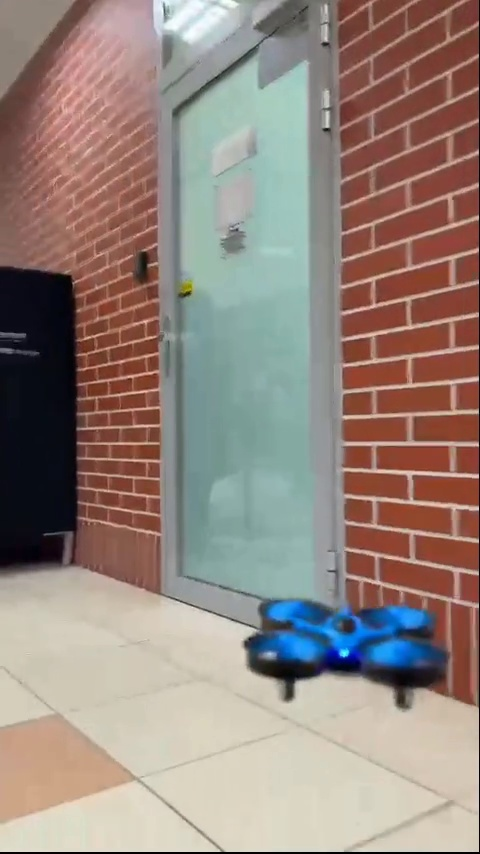drone: (240, 590, 450, 715)
